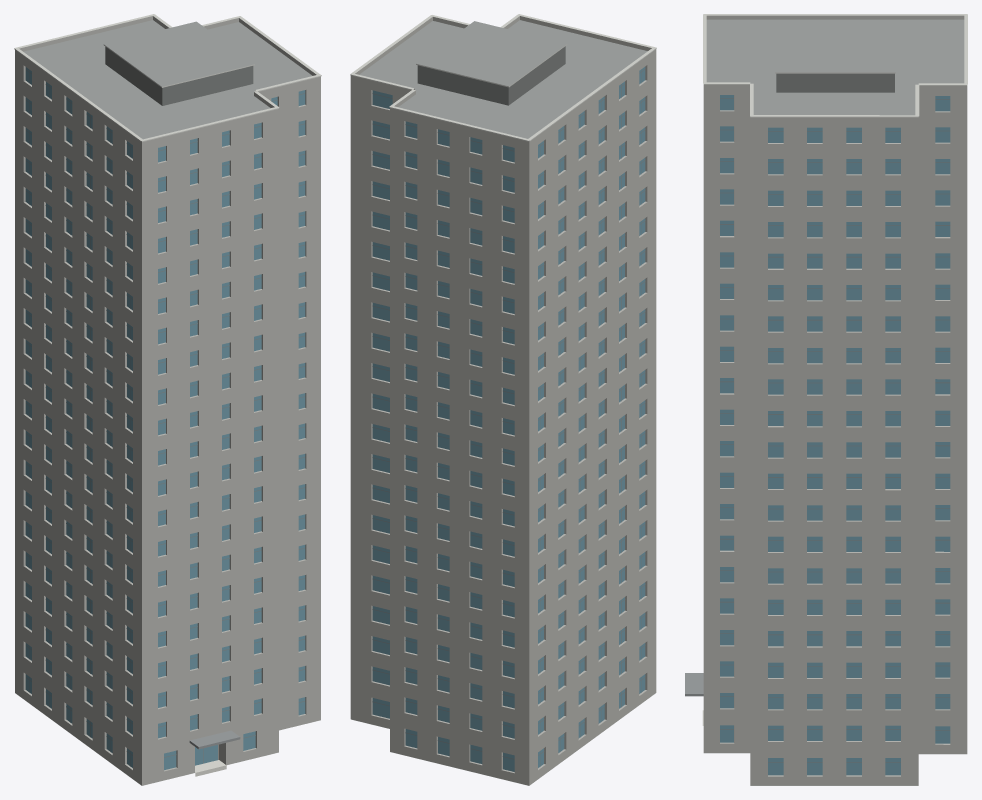
The picture shows the model from 3 angles, left to right: view 1: azimuth 30°, elevation 25°; view 2: azimuth 150°, elevation 25°; view 3: azimuth 270°, elevation 25°; orthographic projection. The views are drawn at different scales.
Parts seen in each view (by area): view 1: unist-batch-b308__parapet, b308__glass, b308__frame, b308__trim; view 2: unist-batch-b308__parapet, b308__glass, b308__frame, b308__trim; view 3: unist-batch-b308__parapet, b308__glass, b308__frame, b308__trim.
Boxes of the visible parts, x1=… form: unist-batch-b308__parapet: x1=15, y1=16, x2=320, y2=785; b308__glass: x1=25, y1=67, x2=305, y2=770; b308__frame: x1=25, y1=69, x2=305, y2=766; b308__trim: x1=14, y1=14, x2=321, y2=141; unist-batch-b308__parapet: x1=350, y1=16, x2=656, y2=785; b308__glass: x1=372, y1=67, x2=645, y2=771; b308__frame: x1=372, y1=69, x2=645, y2=766; b308__trim: x1=350, y1=14, x2=656, y2=141; unist-batch-b308__parapet: x1=703, y1=15, x2=967, y2=785; b308__glass: x1=720, y1=95, x2=950, y2=775; b308__frame: x1=720, y1=98, x2=950, y2=762; b308__trim: x1=703, y1=14, x2=967, y2=117.
Size of the model in its own units: 23.46 by 73.4 by 27.3.
